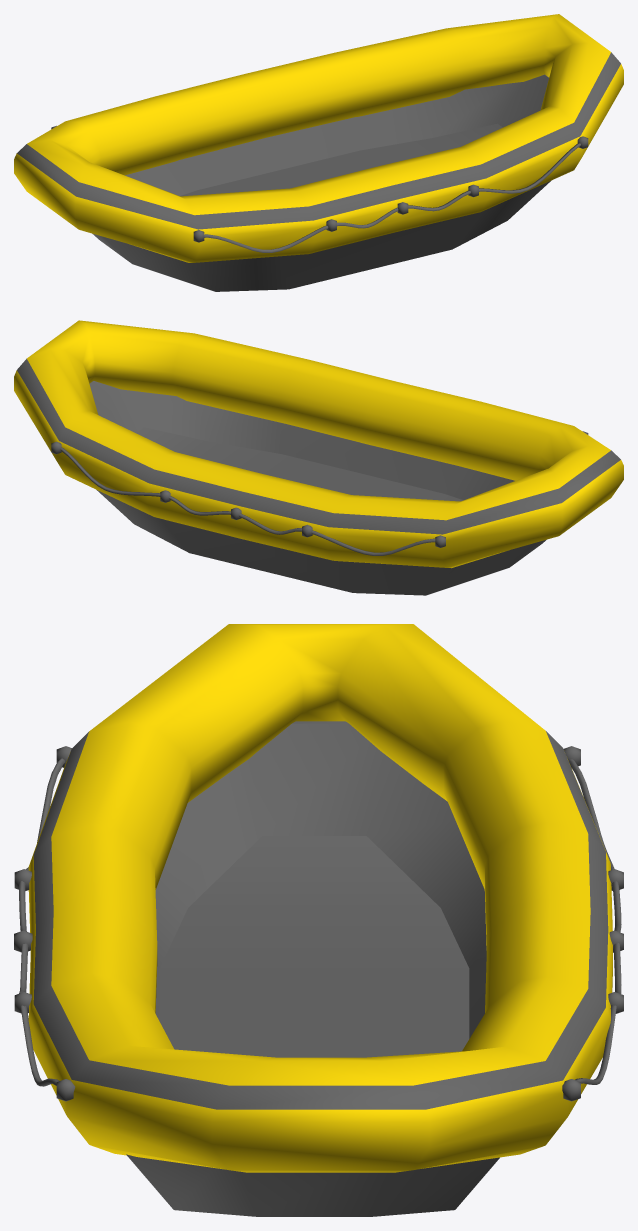
Rendered from boat.fbx.
The picture shows the model from 3 angles, top to bottom: view 1: azimuth 30°, elevation 25°; view 2: azimuth 150°, elevation 25°; view 3: azimuth 270°, elevation 25°; orthographic projection. The views are drawn at different scales.
Visible parts, largest first — view 1: polySurface16; view 2: polySurface16; view 3: polySurface16.
Part boxes in pixels (left/top/right/bottom): polySurface16: left=14, top=14, right=623, bottom=291; polySurface16: left=14, top=320, right=623, bottom=595; polySurface16: left=14, top=624, right=623, bottom=1216.
Bounding box in the file's own units: 4.15 × 1.02 × 2.25.
